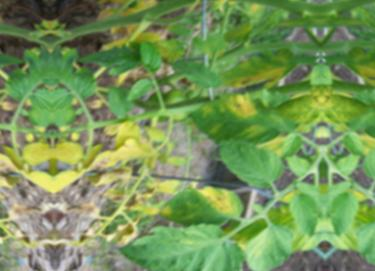Tomato leaf yellow virus: (179, 91, 301, 156), (112, 216, 247, 271), (163, 171, 250, 232), (50, 36, 103, 105), (247, 217, 296, 270), (150, 0, 240, 3)
